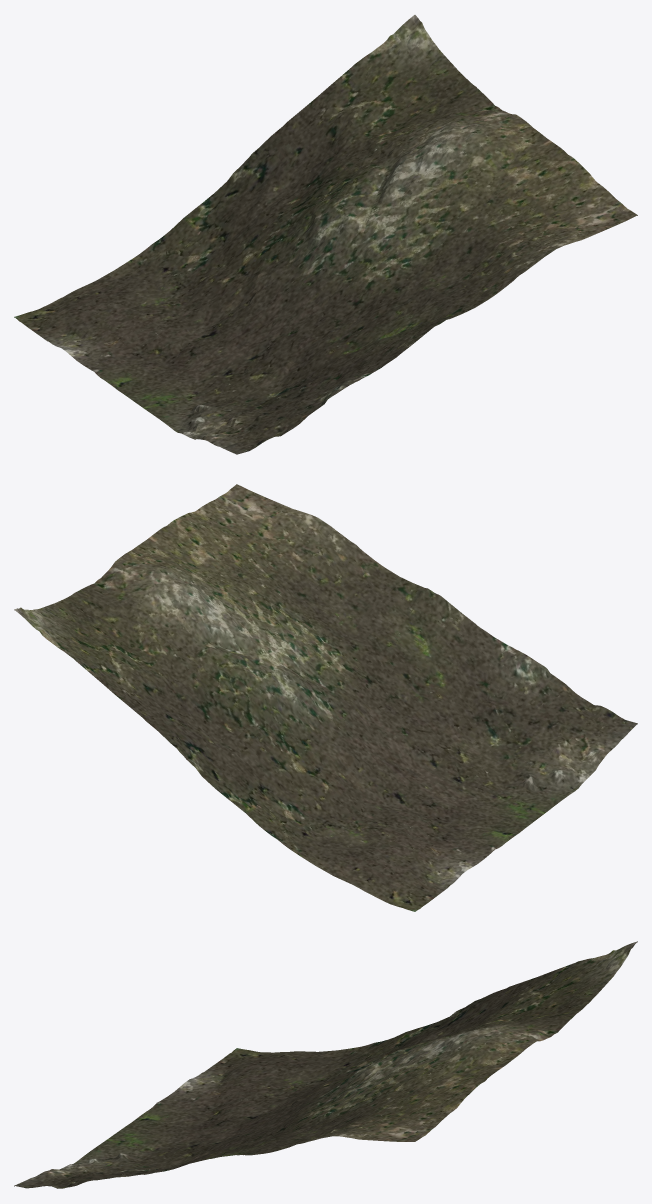
3 views of the same model, one above another, from view 1: azimuth 30°, elevation 25°; view 2: azimuth 150°, elevation 25°; view 3: azimuth 330°, elevation 25° (orthographic).
Size of the model in its own units: 500 by 246 by 481.
1 material, 1 textured.
